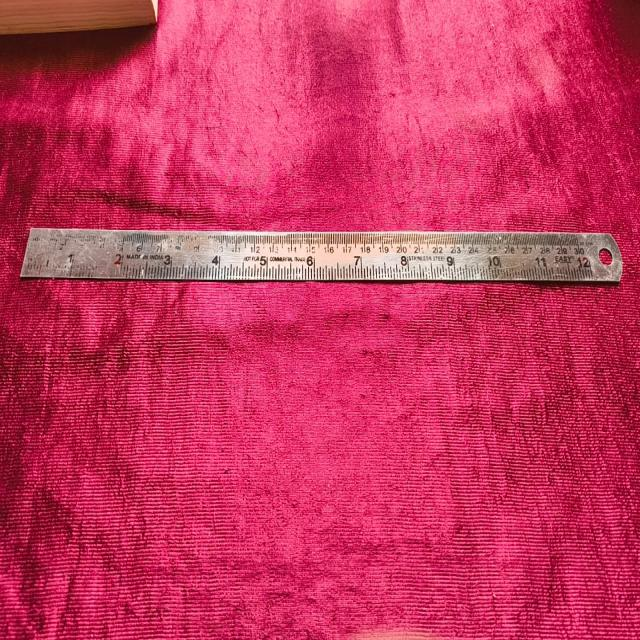scale: (20, 229, 626, 283)
